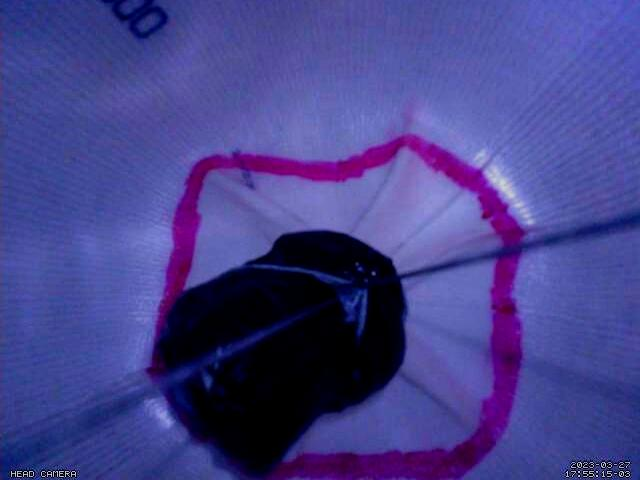red-circle: (146, 134, 525, 480)
